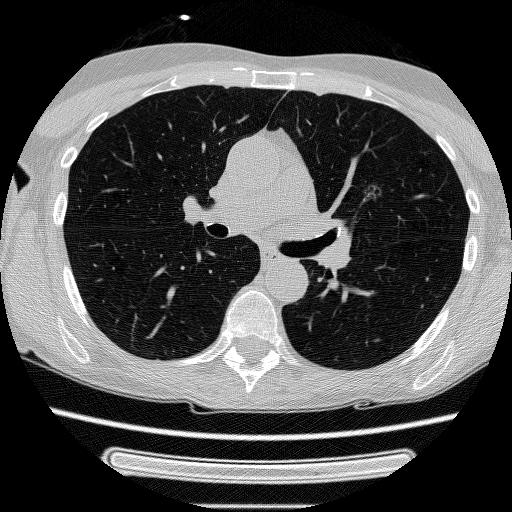nodule: (361, 182, 383, 204)
